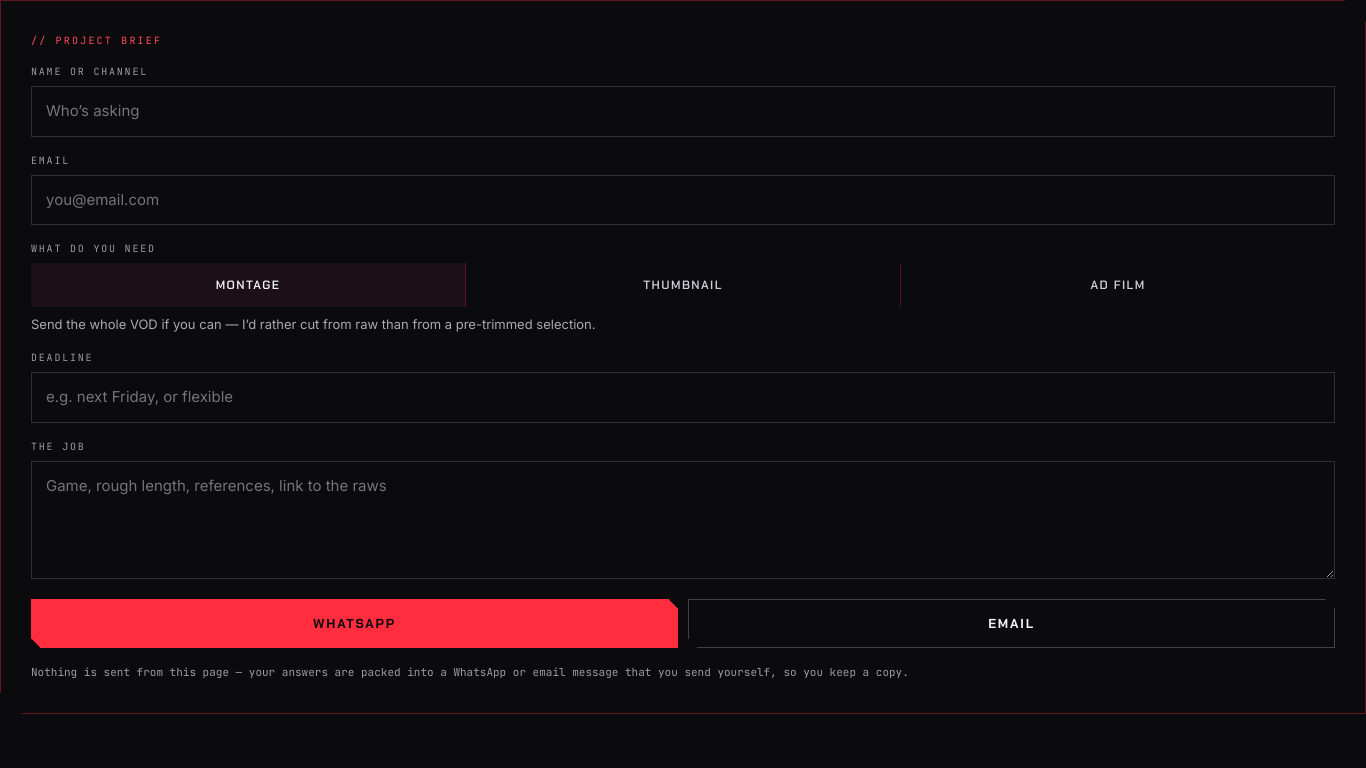
Test case: BriefForm › job type picker › hides the deadline field for a thumbnail, where runtime is meaningless
Expected: the field labelled "Deadline" is shown, [31,372,1335,423]
Click the button "Thumbnail". click: (683, 285)
box: [466,263,900,307]
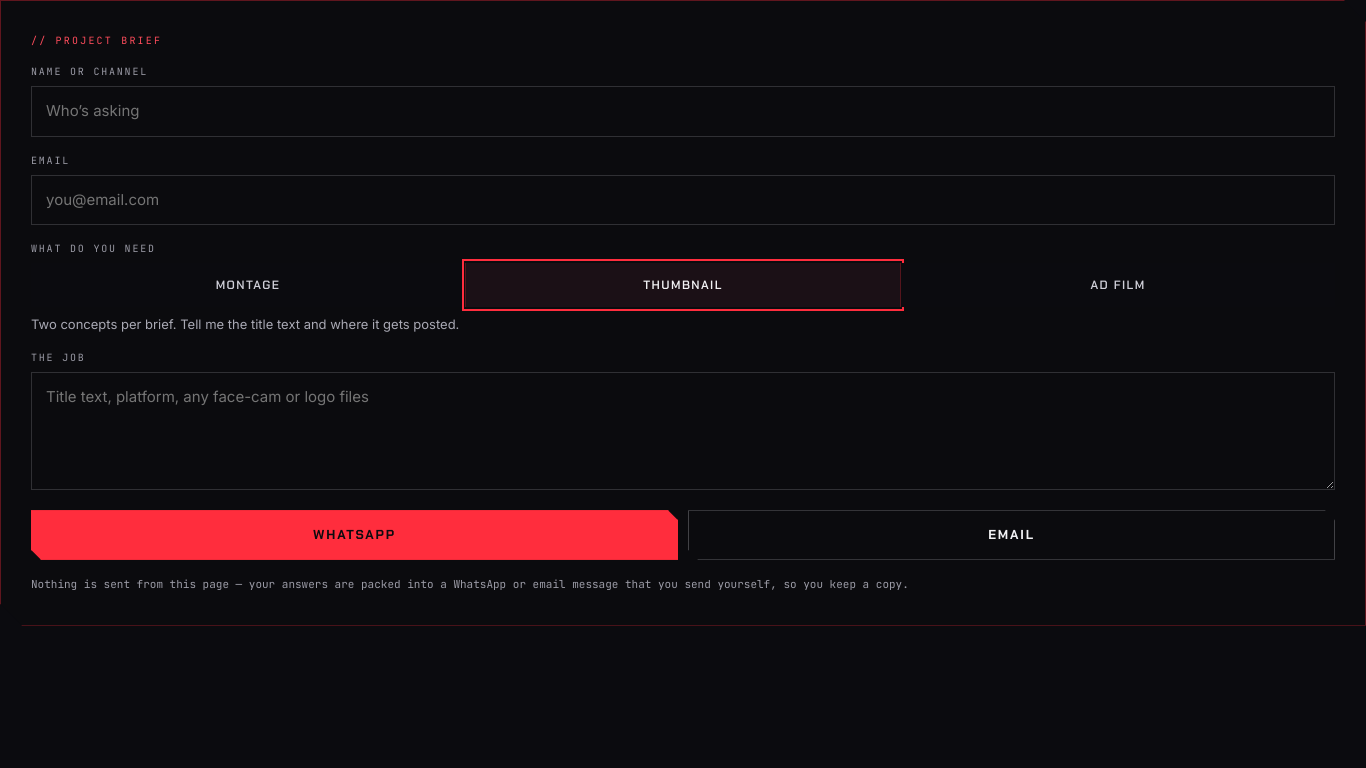
Expected: the label labelled "Deadline" is gone
